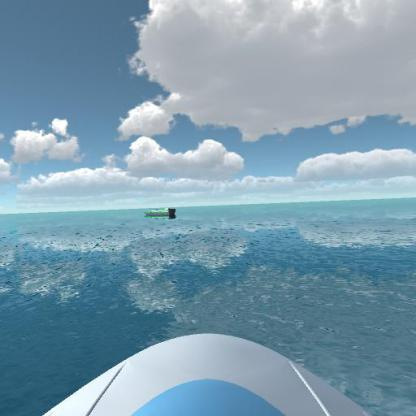usv0: (144, 205, 177, 222)
